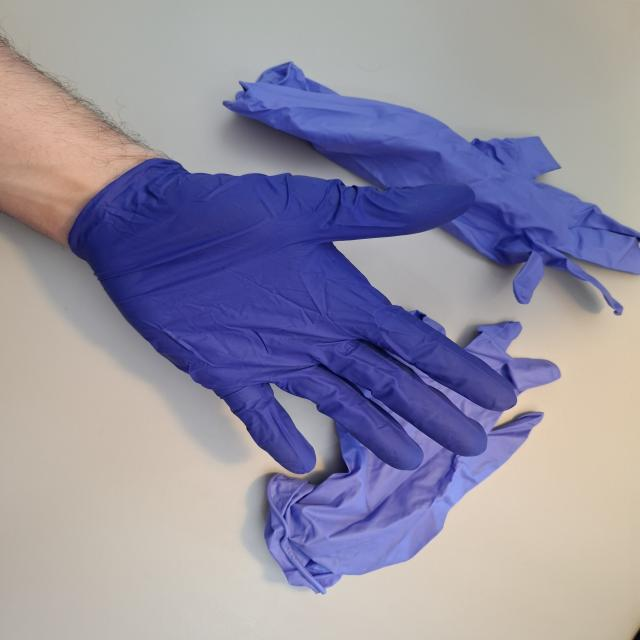glove_on: (72, 160, 522, 477)
